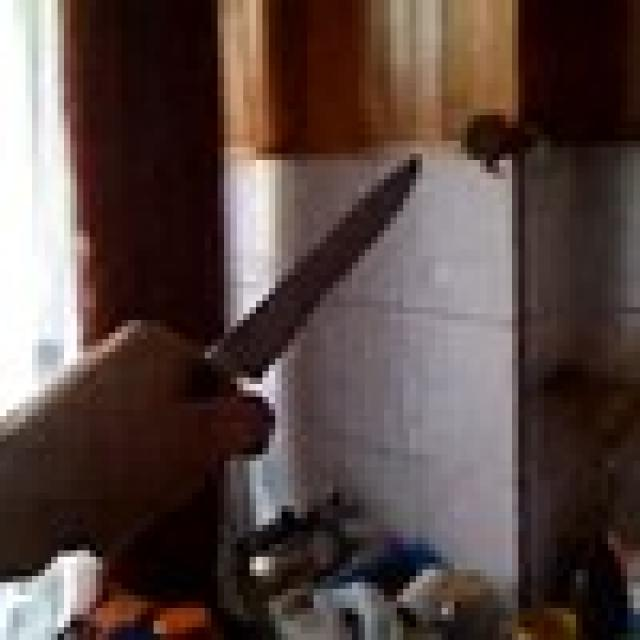Knife: (212, 148, 422, 422)
